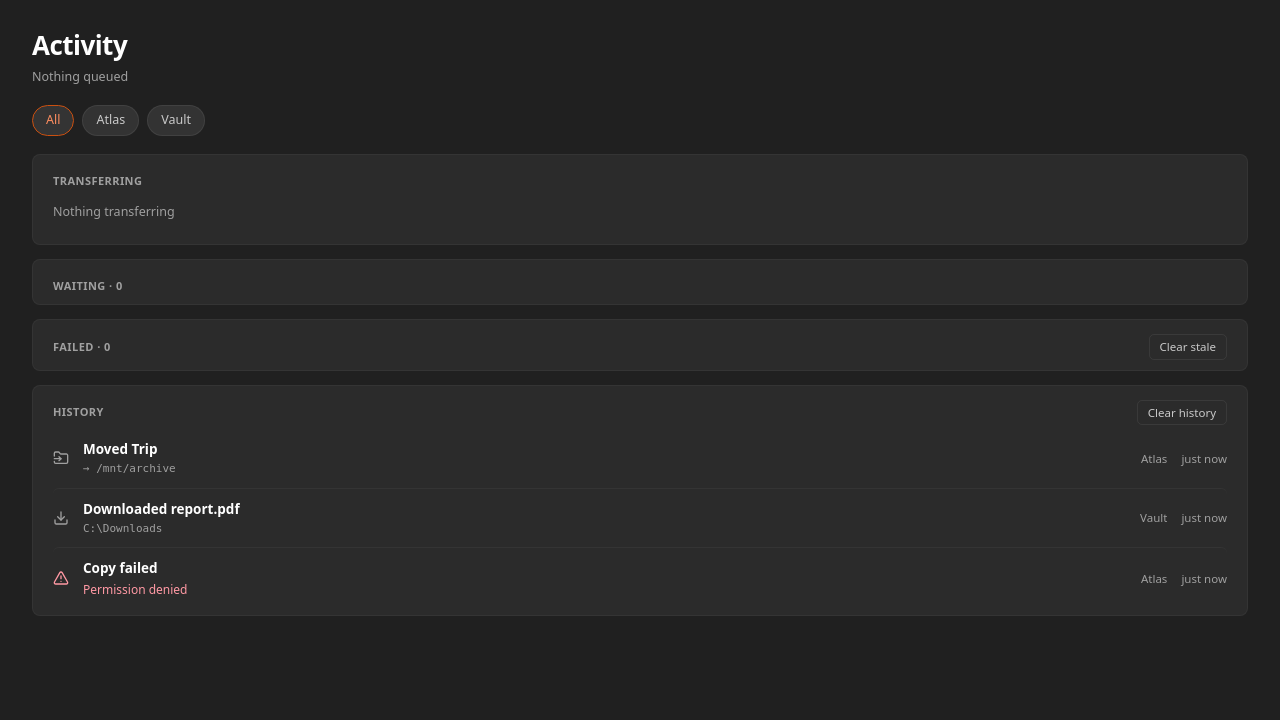
Test: QueueView history › follows the connection filter
This screenshot has width=1280, height=720.
Expected: the text "Moved Trip" is shown, 83,439 -> 158,459
Click the button "Vault": {"x": 176, "y": 120} 147,105 -> 205,136
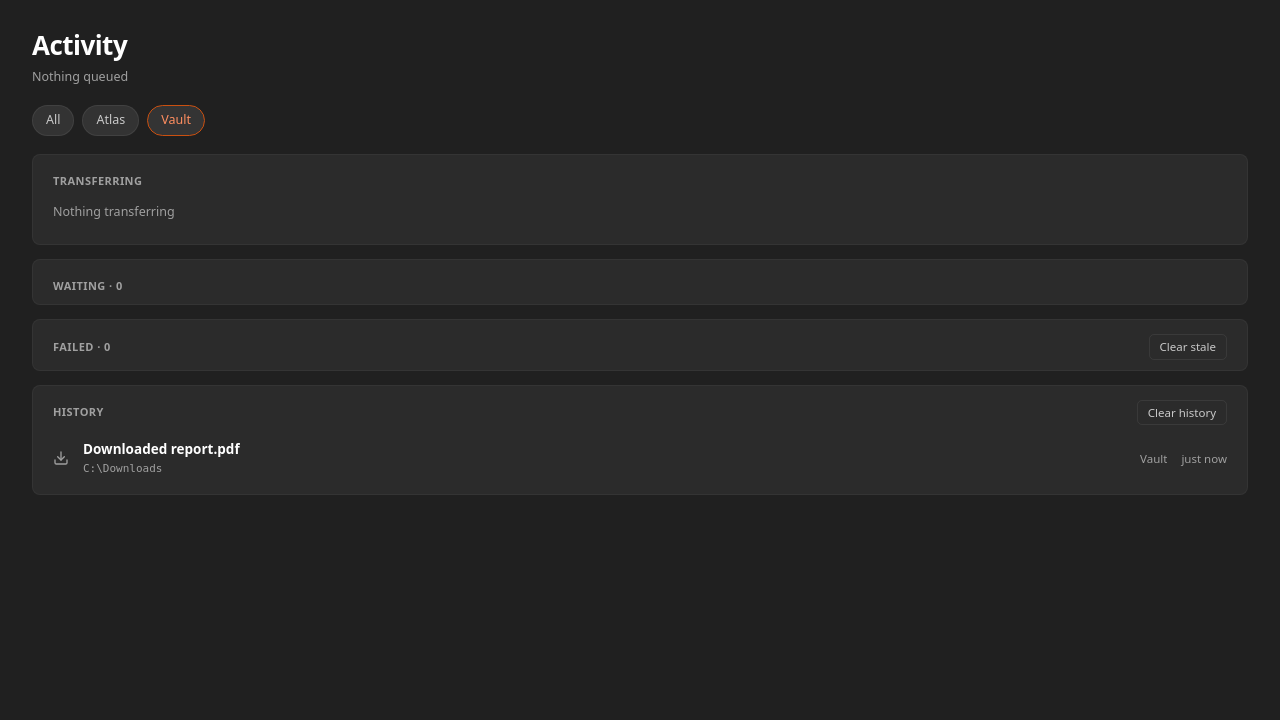
Expected: the text "Downloaded report.pdf" is shown, 83,439 -> 240,459
Result: the button "Moved Trip" is gone
